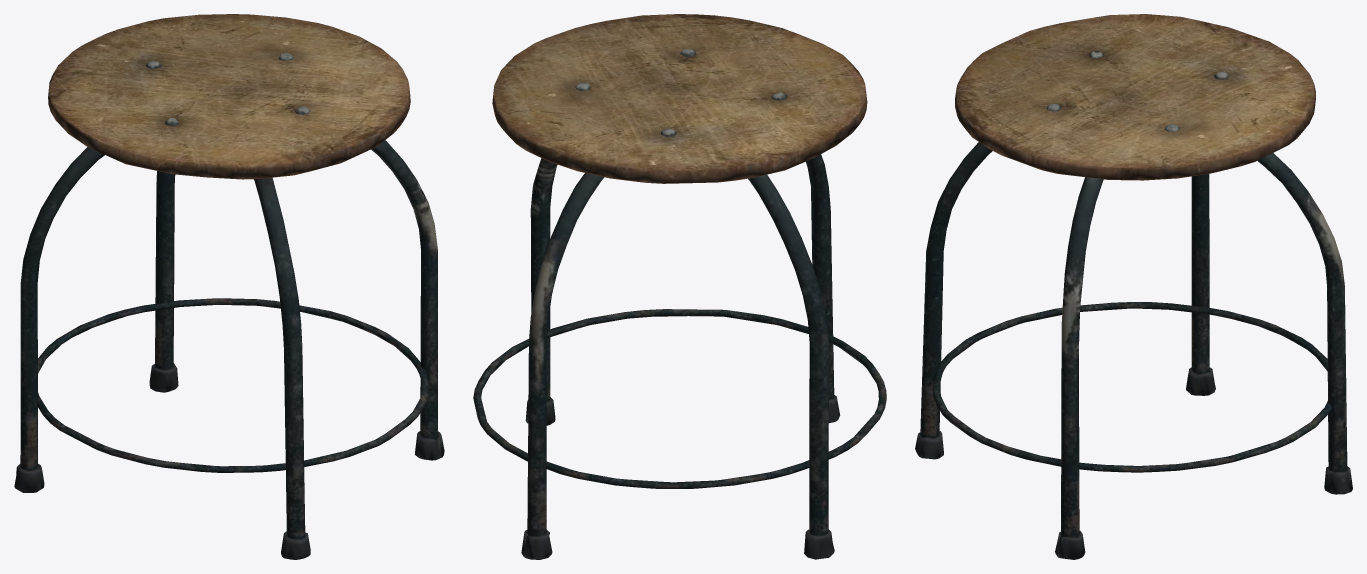
File: metal_stool_02.glb
3 views of the same model, side by side, from view 1: azimuth 30°, elevation 25°; view 2: azimuth 150°, elevation 25°; view 3: azimuth 270°, elevation 25° (orthographic). The views are drawn at different scales.
Parts seen in each view (by area): view 1: metal_stool_02; view 2: metal_stool_02; view 3: metal_stool_02.
Part boxes in pixels (x1,y1,x2,y2): metal_stool_02: (14,14,444,559); metal_stool_02: (473,14,886,559); metal_stool_02: (915,14,1352,559).
Bounding box in the file's own units: 0.4471 × 0.4579 × 0.4725.
1 material, 1 textured.
